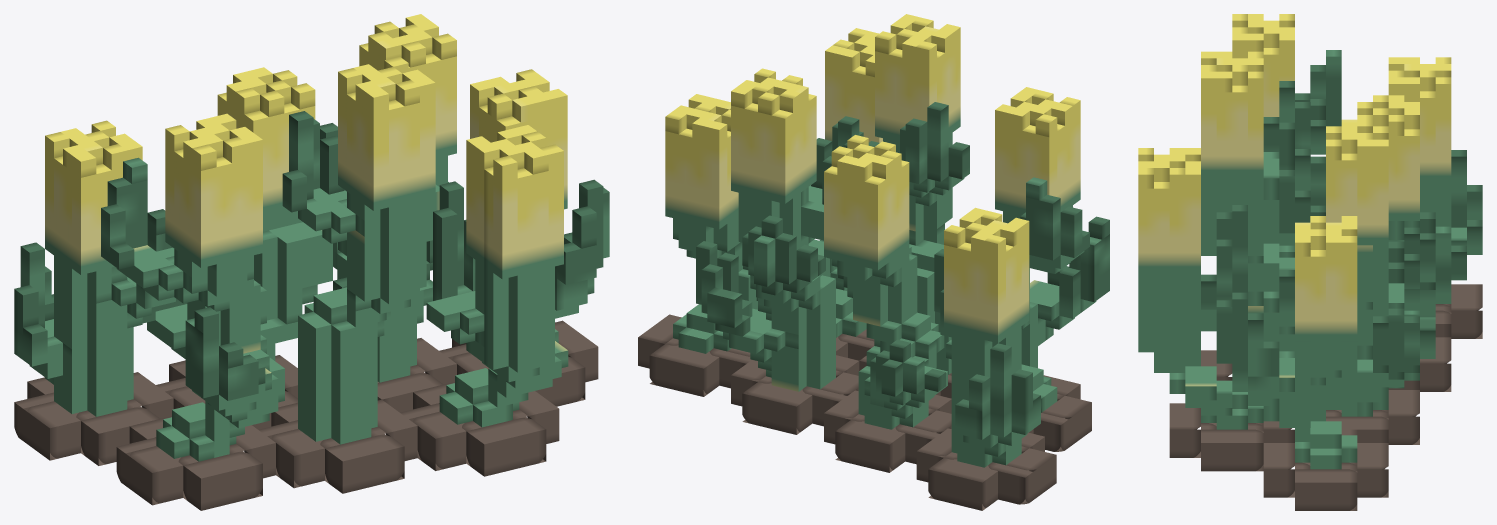
The model's file is Scenecio2.obj.
The picture shows the model from 3 angles, left to right: view 1: azimuth 30°, elevation 25°; view 2: azimuth 150°, elevation 25°; view 3: azimuth 270°, elevation 25°; orthographic projection. The views are drawn at different scales.
Visible parts, largest first — view 1: Model; view 2: Model; view 3: Model.
Boxes of the visible parts, box(x1,y1,x2,y2) form: Model: box(14, 14, 609, 510); Model: box(638, 14, 1109, 510); Model: box(1138, 14, 1482, 510).
Bounding box in the file's own units: 32 × 24 × 22.
Materials: 1 (1 with a texture image).
